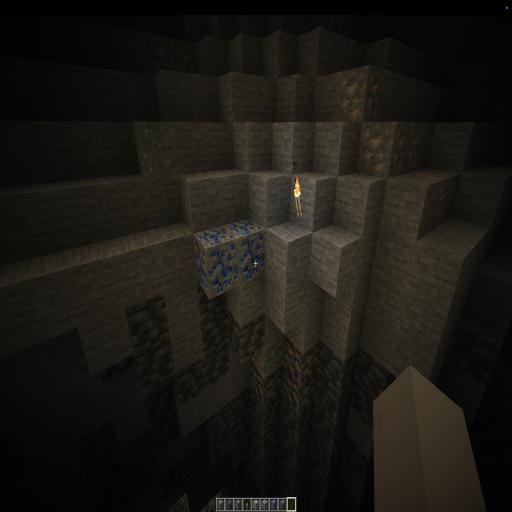iron ore: (338, 67, 421, 175), (422, 171, 450, 229)
lapis ore: (198, 218, 264, 298)
